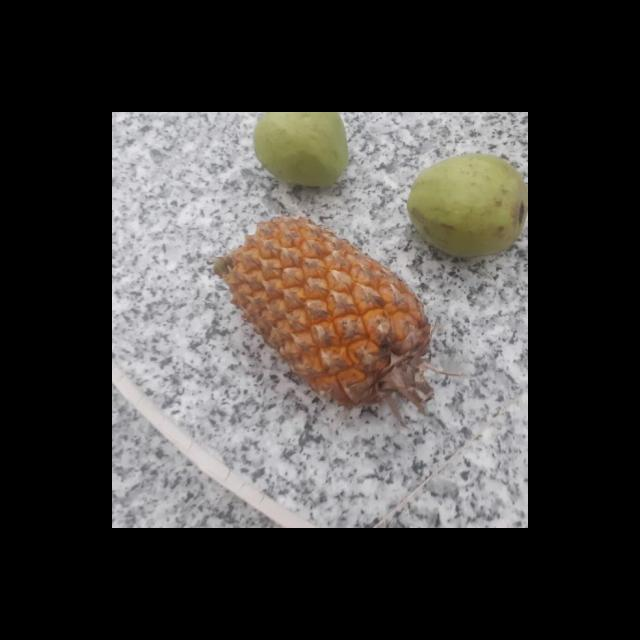guava: (403, 155, 528, 255), (250, 112, 350, 190)
pineapple: (210, 213, 432, 409)
